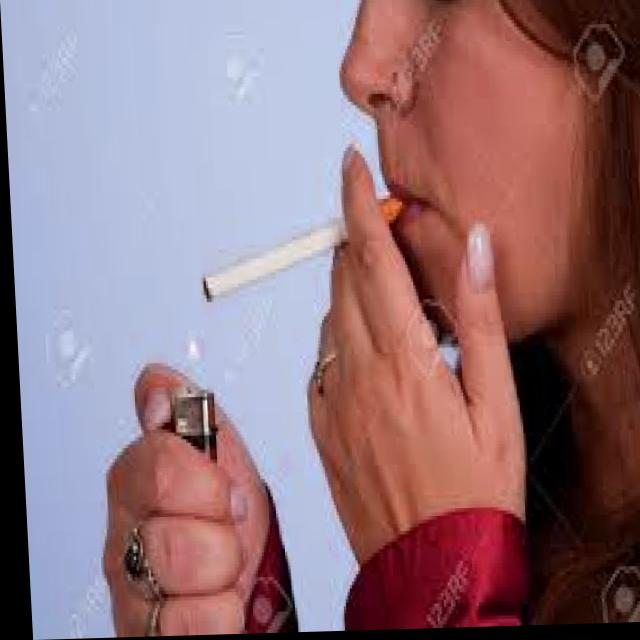fire: (164, 307, 214, 388)
